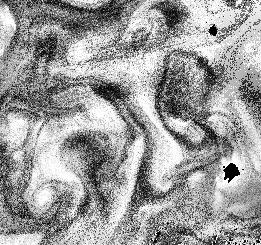CE: (26, 177, 68, 215)
